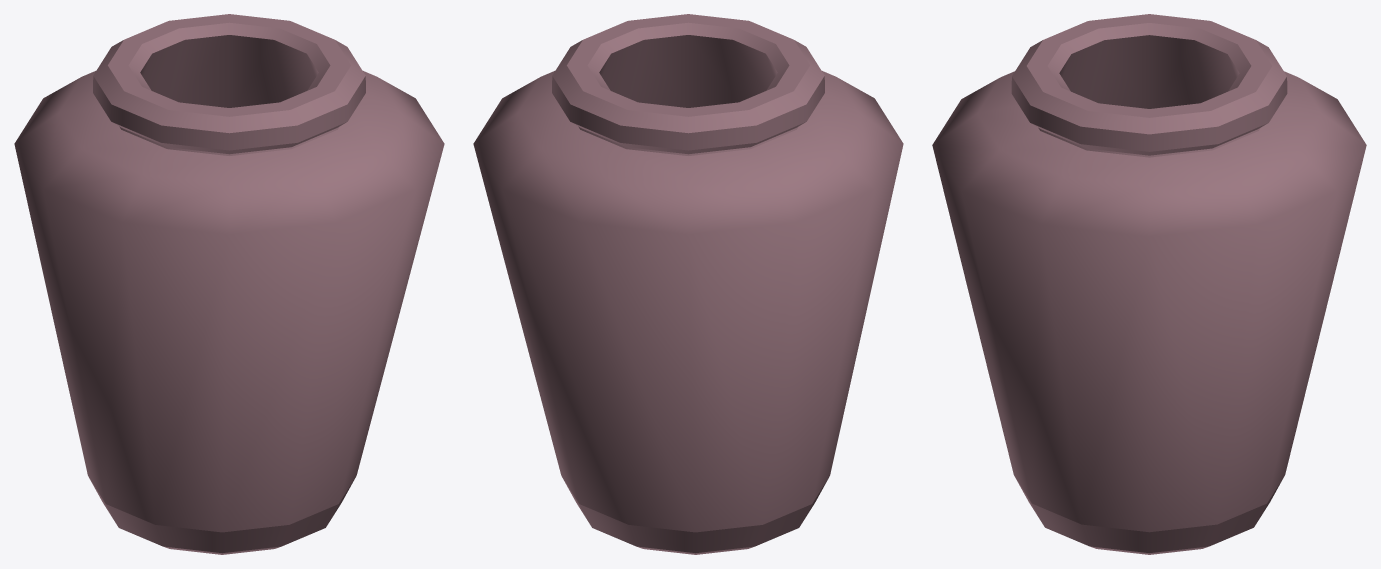
Rendered from Vase.glb.
The picture shows the model from 3 angles, left to right: view 1: azimuth 30°, elevation 25°; view 2: azimuth 150°, elevation 25°; view 3: azimuth 270°, elevation 25°; orthographic projection.
Visible parts, largest first — view 1: Vase; view 2: Vase; view 3: Vase.
Part boxes in pixels (box(x1,y1,x2,y2)): Vase: box(14, 14, 444, 554); Vase: box(473, 14, 903, 554); Vase: box(932, 14, 1366, 554).
Bounding box in the file's own units: 0.376 × 0.4276 × 0.376.
